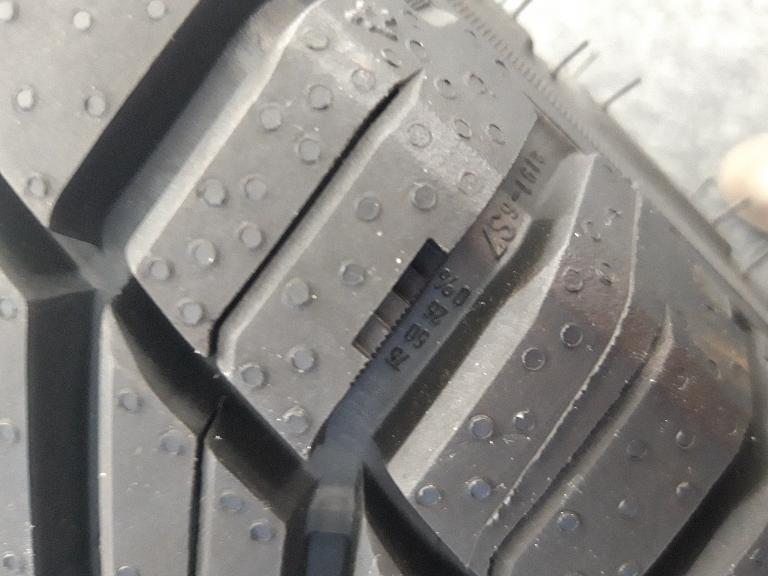temoin:100: (341, 231, 457, 394)
